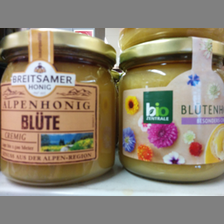honey: (1, 30, 118, 185), (120, 38, 224, 183)
